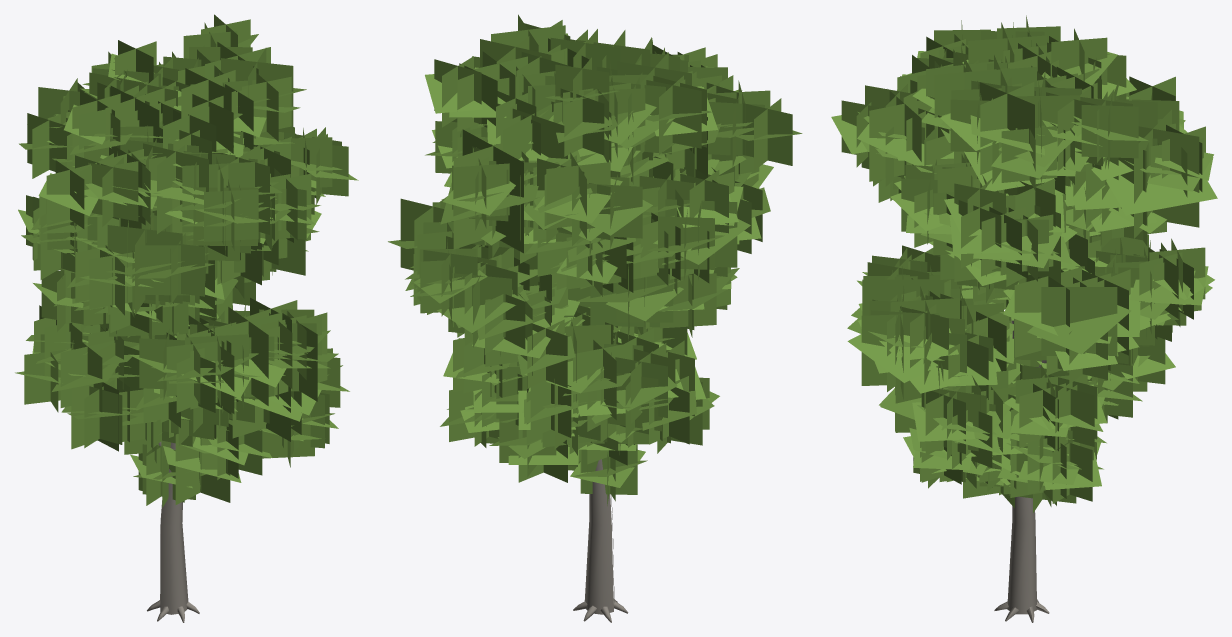
The model's file is tilleul_2_jeu.glb.
The picture shows the model from 3 angles, left to right: view 1: azimuth 30°, elevation 25°; view 2: azimuth 150°, elevation 25°; view 3: azimuth 270°, elevation 25°; orthographic projection. The views are drawn at different scales.
Parts seen in each view (by area): view 1: Tilleul_T2_Leger; view 2: Tilleul_T2_Leger; view 3: Tilleul_T2_Leger.
Part boxes in pixels (x1,y1,x2,y2): Tilleul_T2_Leger: [15, 14, 358, 622]; Tilleul_T2_Leger: [388, 14, 802, 622]; Tilleul_T2_Leger: [831, 15, 1217, 622].
Bounding box in the file's own units: 6.73 × 10.28 × 6.35.
